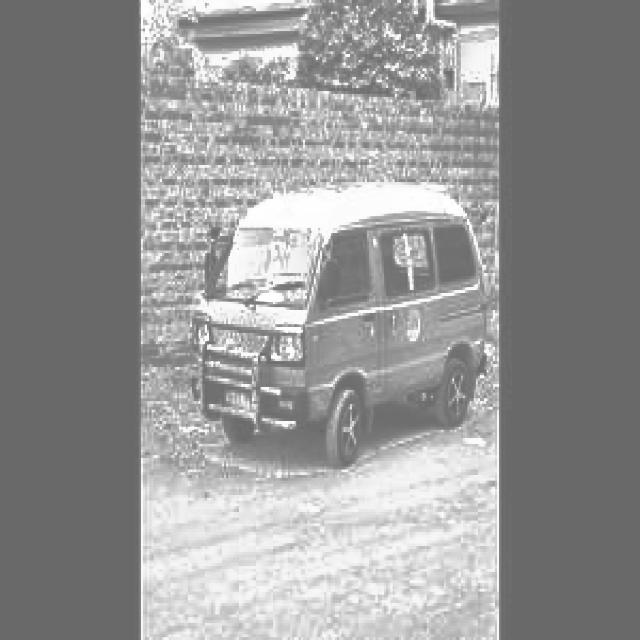LCV: (192, 185, 491, 472)
